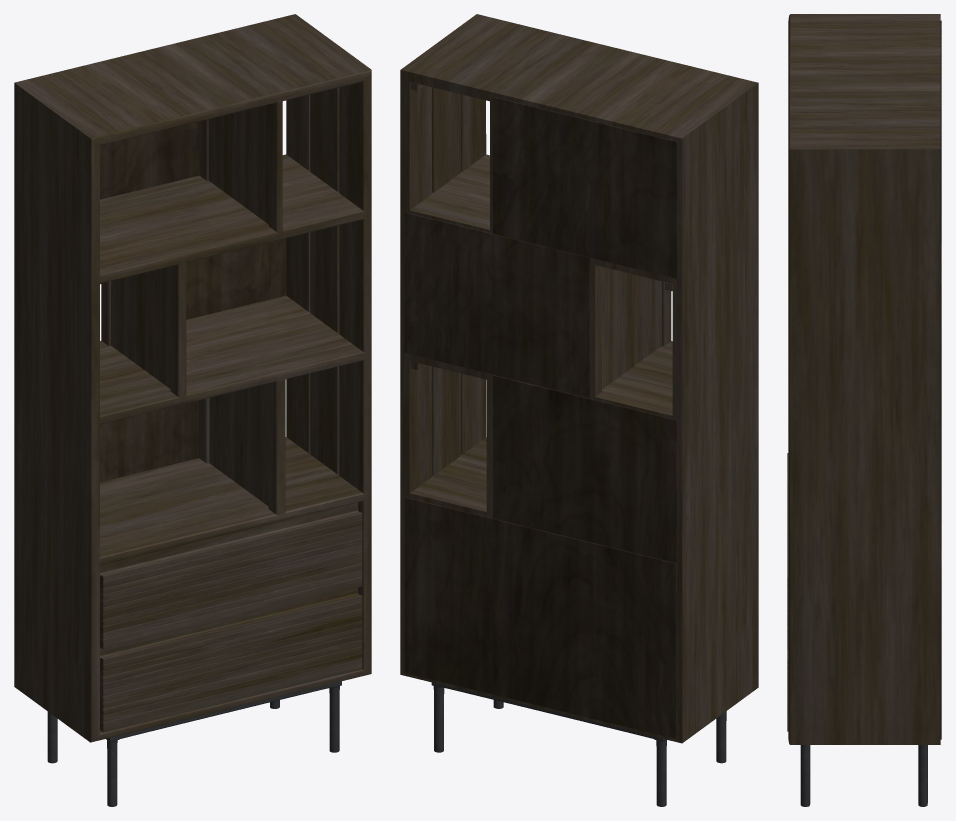
Rendered from appliance_B07HSMYNYJ.glb.
The picture shows the model from 3 angles, left to right: view 1: azimuth 30°, elevation 25°; view 2: azimuth 150°, elevation 25°; view 3: azimuth 270°, elevation 25°; orthographic projection.
Parts seen in each view (by area): view 1: RootNode; view 2: RootNode; view 3: RootNode.
Boxes of the visible parts, bbox=[...] form: RootNode: bbox=[14, 14, 371, 806]; RootNode: bbox=[400, 14, 758, 806]; RootNode: bbox=[787, 14, 941, 806].
Size of the model in its own units: 0.6695 by 1.54 by 0.3226.
Materials: 1 (1 with a texture image).
